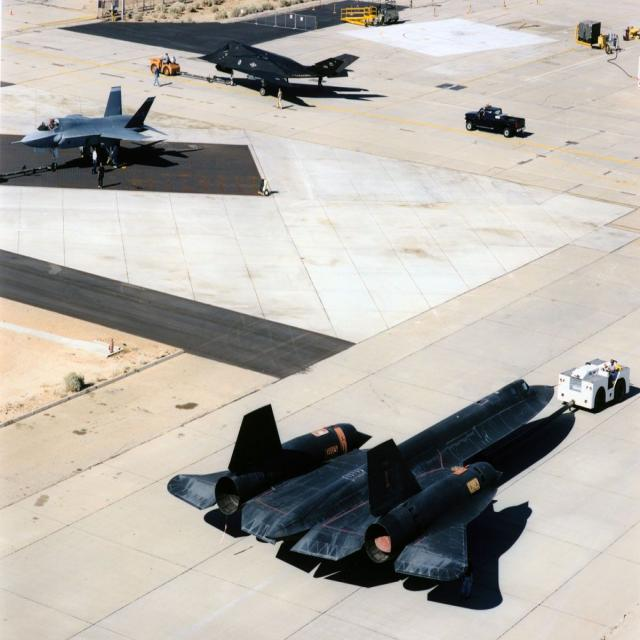MIL_Plane: (167, 378, 562, 582), (7, 85, 168, 172), (197, 40, 360, 96)
